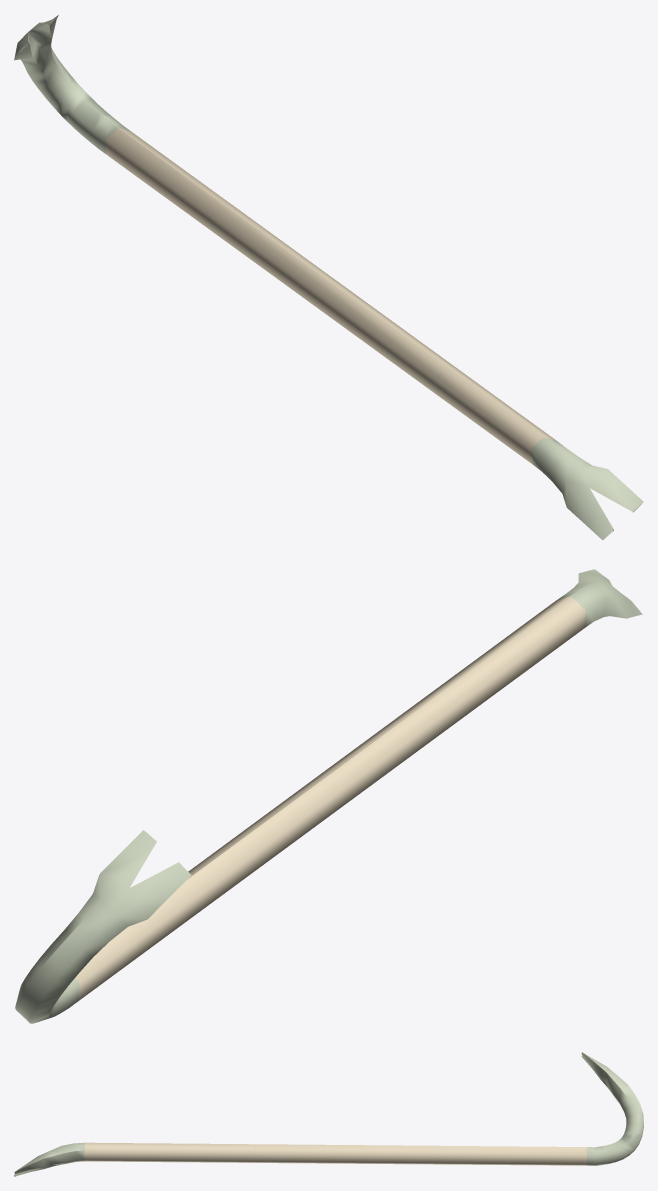
The model's file is crowbar.fbx.
The picture shows the model from 3 angles, top to bottom: view 1: azimuth 30°, elevation 25°; view 2: azimuth 150°, elevation 25°; view 3: azimuth 270°, elevation 25°; orthographic projection. The views are drawn at different scales.
Visible parts, largest first — view 1: w_Crowbar_reference; view 2: w_Crowbar_reference; view 3: w_Crowbar_reference.
Part boxes in pixels (box(x1,y1,x2,y2)): w_Crowbar_reference: box(14, 15, 643, 540); w_Crowbar_reference: box(15, 569, 642, 1023); w_Crowbar_reference: box(14, 1052, 643, 1176).
Bounding box in the file's own units: 516 × 649 × 3422.
